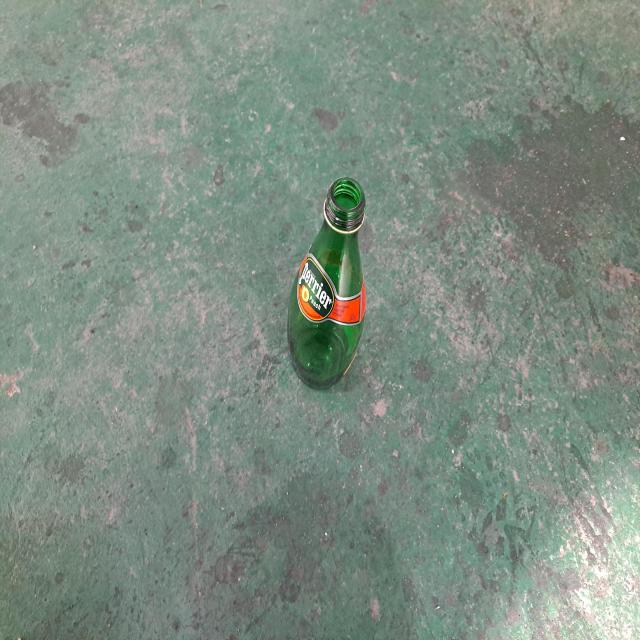glass: (288, 176, 366, 388)
